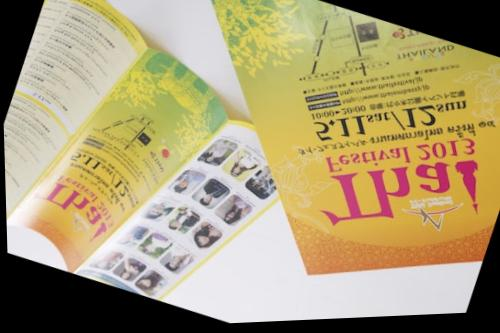paper: (166, 0, 499, 322), (0, 0, 272, 332)
